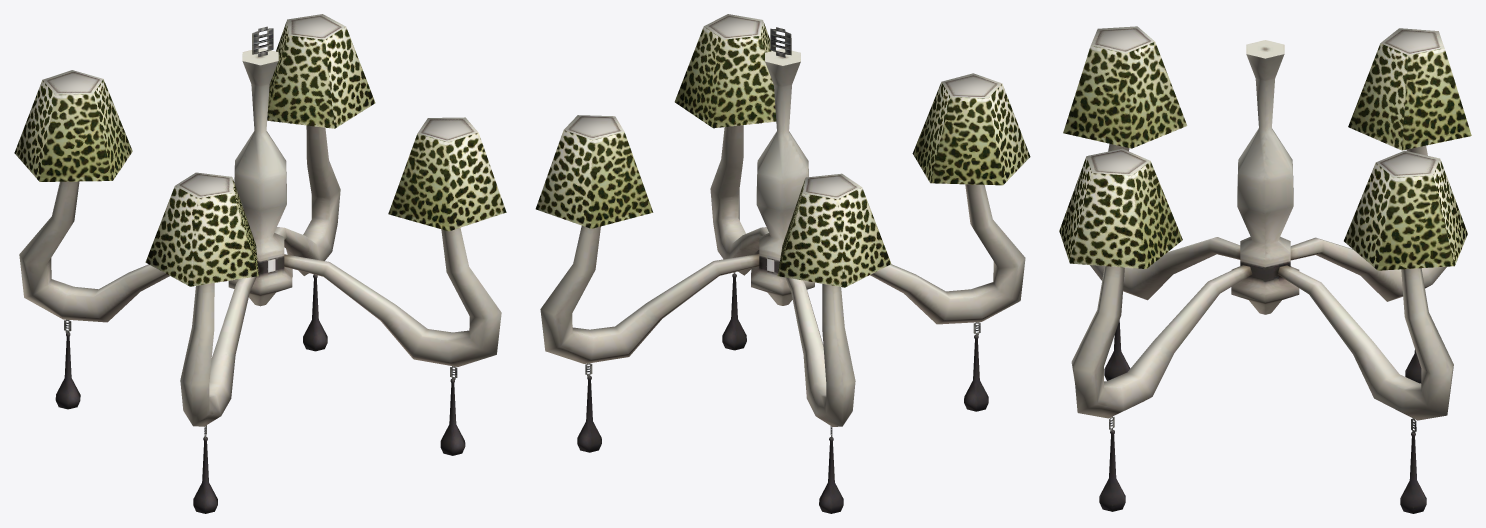
File: furni_0200082_01.FBX
The picture shows the model from 3 angles, left to right: view 1: azimuth 30°, elevation 25°; view 2: azimuth 150°, elevation 25°; view 3: azimuth 270°, elevation 25°; orthographic projection. The views are drawn at different scales.
Visible parts, largest first — view 1: furni_0200082_01; view 2: furni_0200082_01; view 3: furni_0200082_01.
Boxes of the visible parts, box(x1,y1,x2,y2) form: furni_0200082_01: box(14, 14, 506, 513); furni_0200082_01: box(535, 14, 1030, 513); furni_0200082_01: box(1059, 26, 1471, 513).
Size of the model in its own units: 71.72 by 82.49 by 71.72.
1 material, 1 textured.
